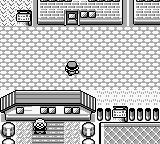leer: (113, 106, 128, 121), (17, 11, 32, 25)
main: (65, 62, 79, 74)
no-caminable: (1, 91, 95, 121), (37, 1, 123, 24), (100, 122, 159, 143), (134, 0, 159, 25), (130, 108, 159, 121), (80, 123, 96, 143), (1, 122, 16, 143), (97, 108, 111, 120)
npc: (32, 119, 48, 134)
puerta: (66, 12, 77, 24)
